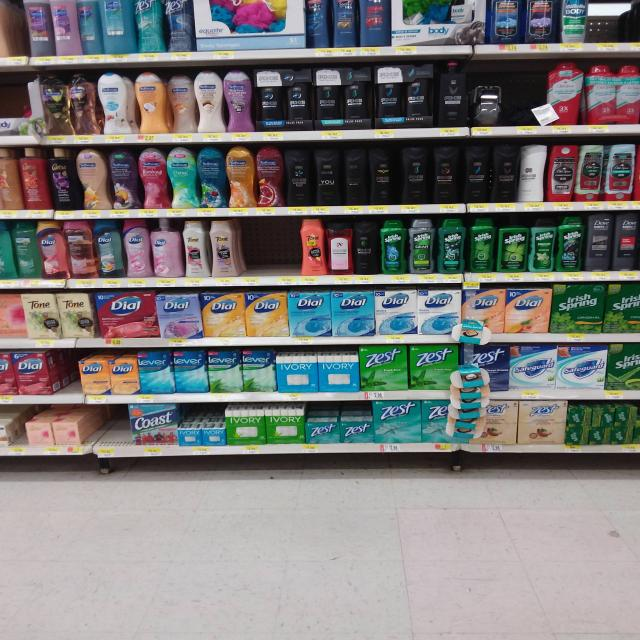unorganised: (166, 75, 198, 135), (521, 145, 548, 202)
